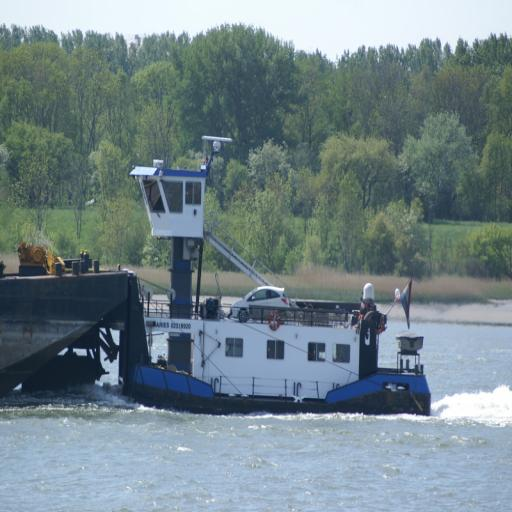tugboat: (54, 133, 436, 425)
